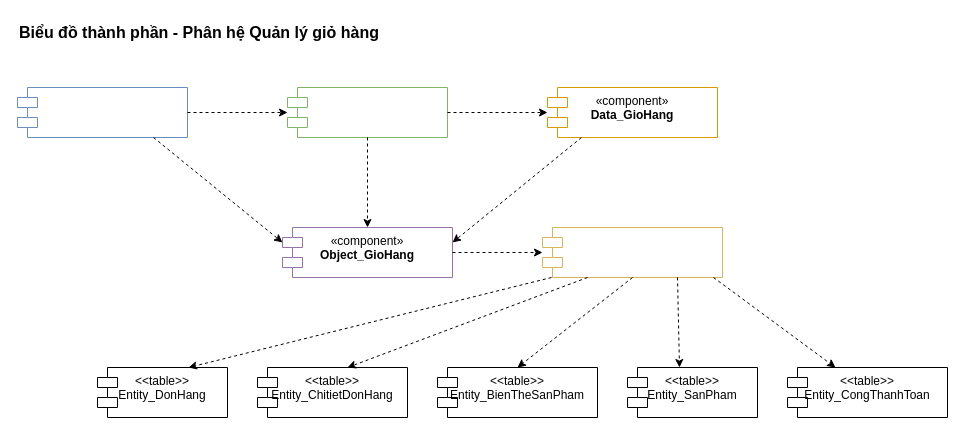
The diagram is 965 pixels wide and 435 high, and some of its shapes have lost their labels. The shapes that lost their labels are listed below. From the top down, each one's centre as x and y in pixels, then its label:
point 102,112: «component» Bound_GioHang
point 367,112: «component» Ctr_GioHang
point 632,252: «component» Entity_GioHang
